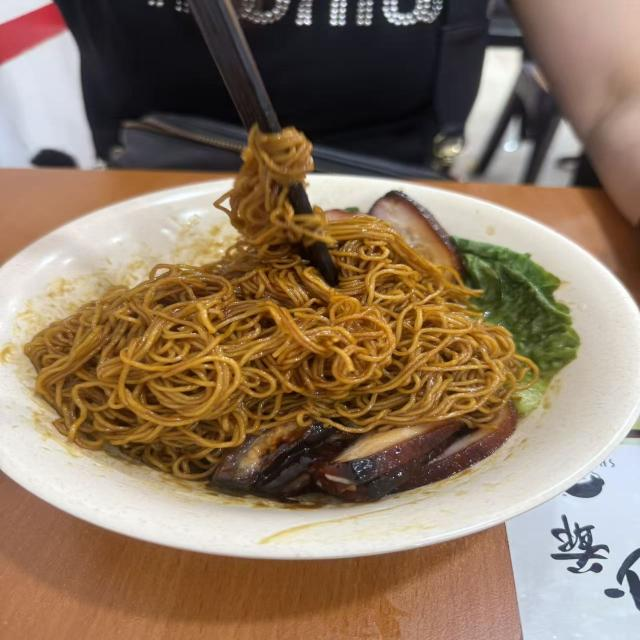Wantan Mee: (44, 122, 610, 561)
